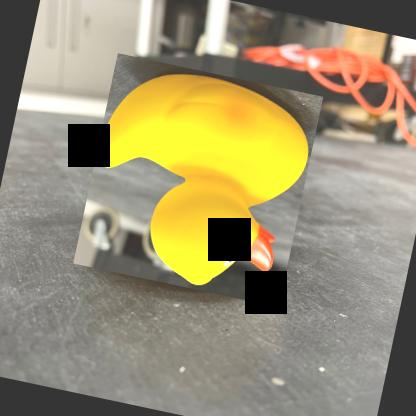duck: (72, 52, 322, 307)
